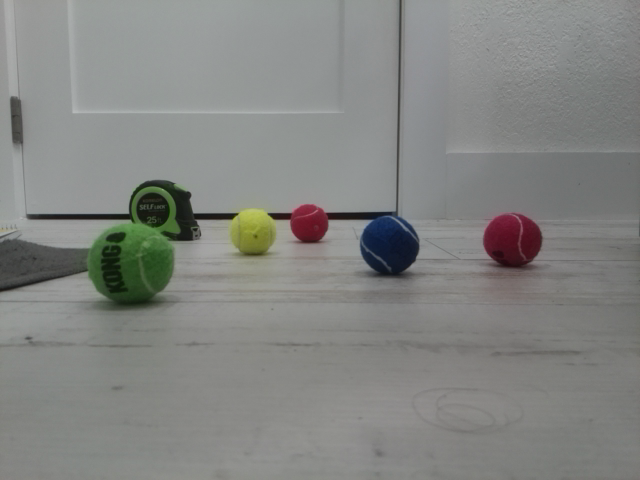blue-ball: (360, 213, 421, 277)
green-ball: (87, 222, 175, 307)
red-ball: (481, 212, 544, 268), (289, 203, 329, 244)
yellow-ball: (229, 207, 278, 256)
